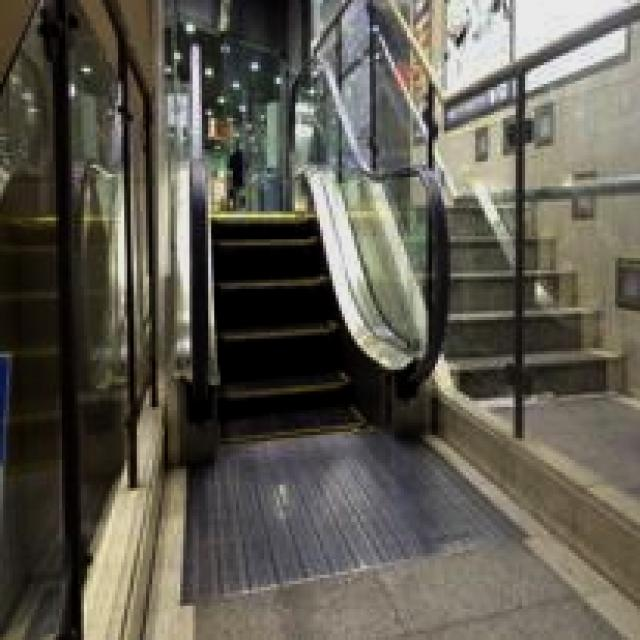upstair: (197, 206, 352, 420)
